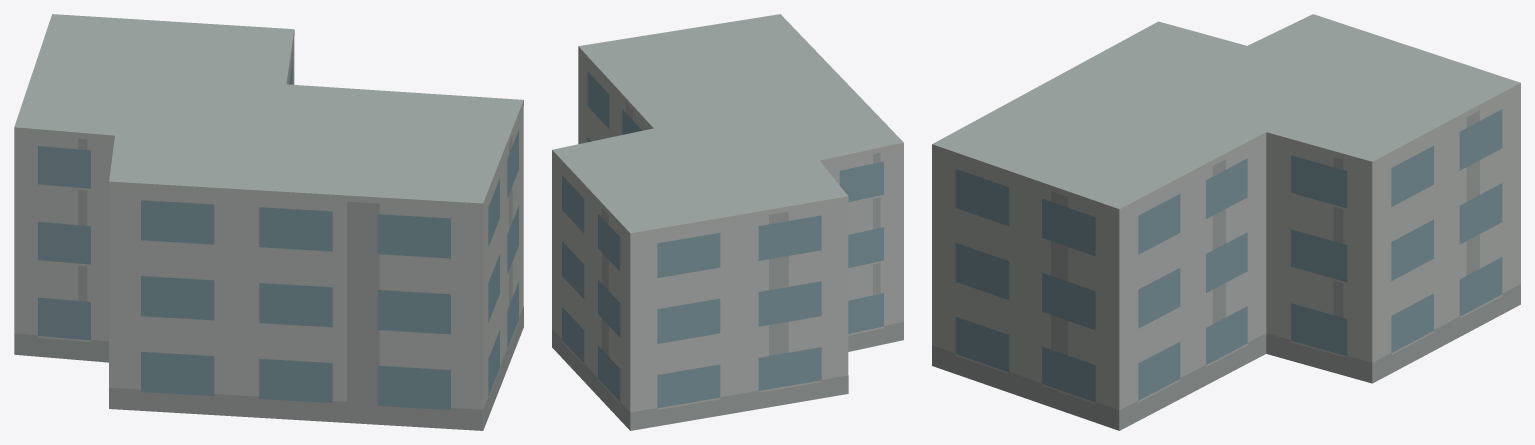
The model's file is survey-upis-32693415.glb.
3 views of the same model, side by side, from view 1: azimuth 30°, elevation 25°; view 2: azimuth 150°, elevation 25°; view 3: azimuth 270°, elevation 25° (orthographic). The views are drawn at different scales.
Visible parts, largest first — view 1: survey-upis-32693415.tmp; view 2: survey-upis-32693415.tmp; view 3: survey-upis-32693415.tmp.
Part boxes in pixels (x1,y1,x2,y2): survey-upis-32693415.tmp: (14, 14, 523, 430); survey-upis-32693415.tmp: (552, 14, 903, 430); survey-upis-32693415.tmp: (932, 14, 1520, 430).
Size of the model in its own units: 17.28 by 9.15 by 22.03.
